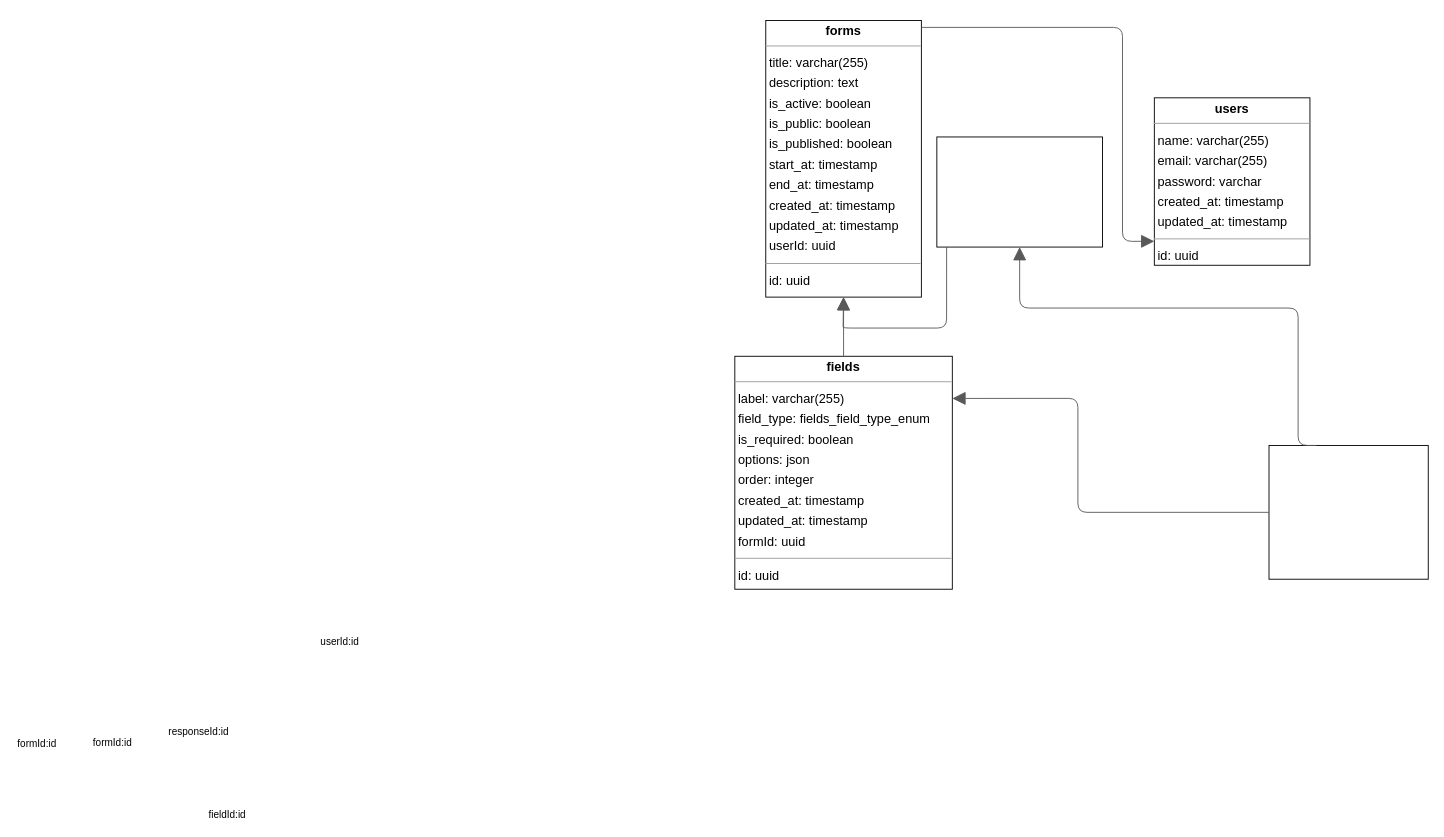
This 1444x837 diagram has some shape labels left out. Each missing label, with the centre of its shape:
response_values value: text responseId: uuid fieldId: uuid id: uuid: point 1348,512
responses submitted_at: timestamp formId: uuid id: uuid: point 1019,191
